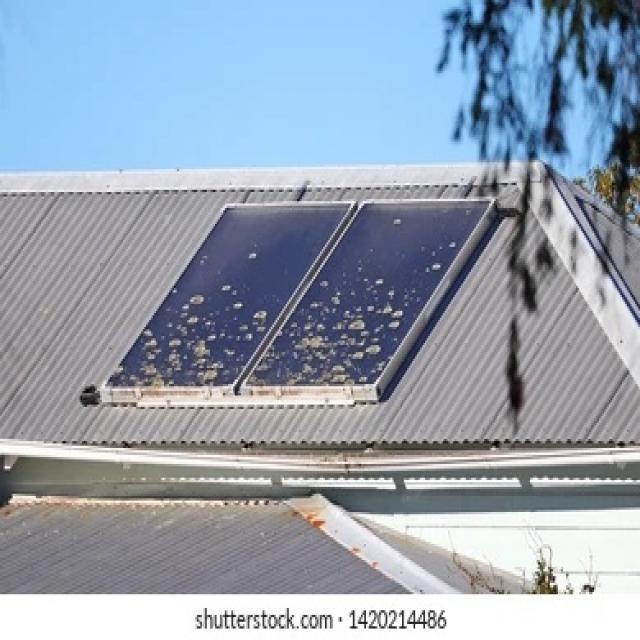faulty: (244, 198, 498, 390), (102, 204, 354, 388)
